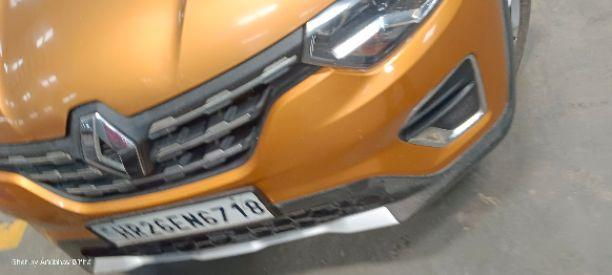license_plate: (0, 0, 532, 271), (84, 185, 276, 249)
